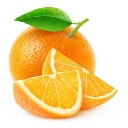orange: (11, 68, 83, 117)
